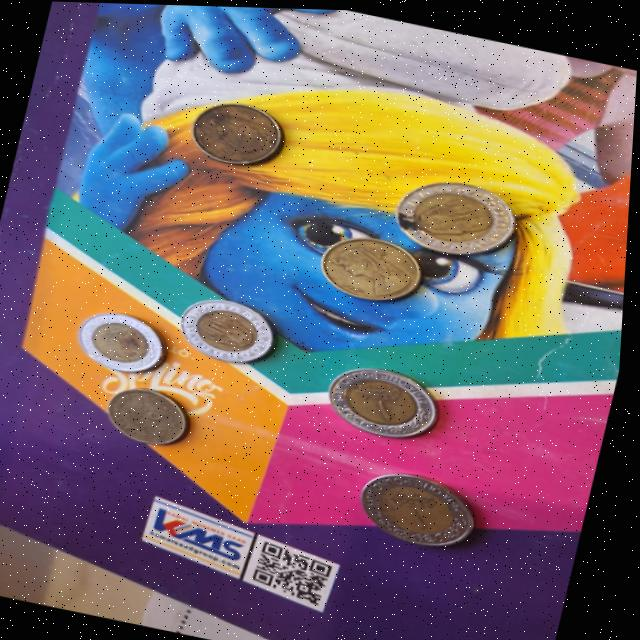Half Pound: (307, 221, 447, 316), (181, 90, 305, 179), (98, 379, 213, 457)
One Pound: (350, 459, 504, 560), (380, 164, 531, 266), (321, 352, 470, 452), (166, 281, 297, 375), (68, 301, 176, 382)
